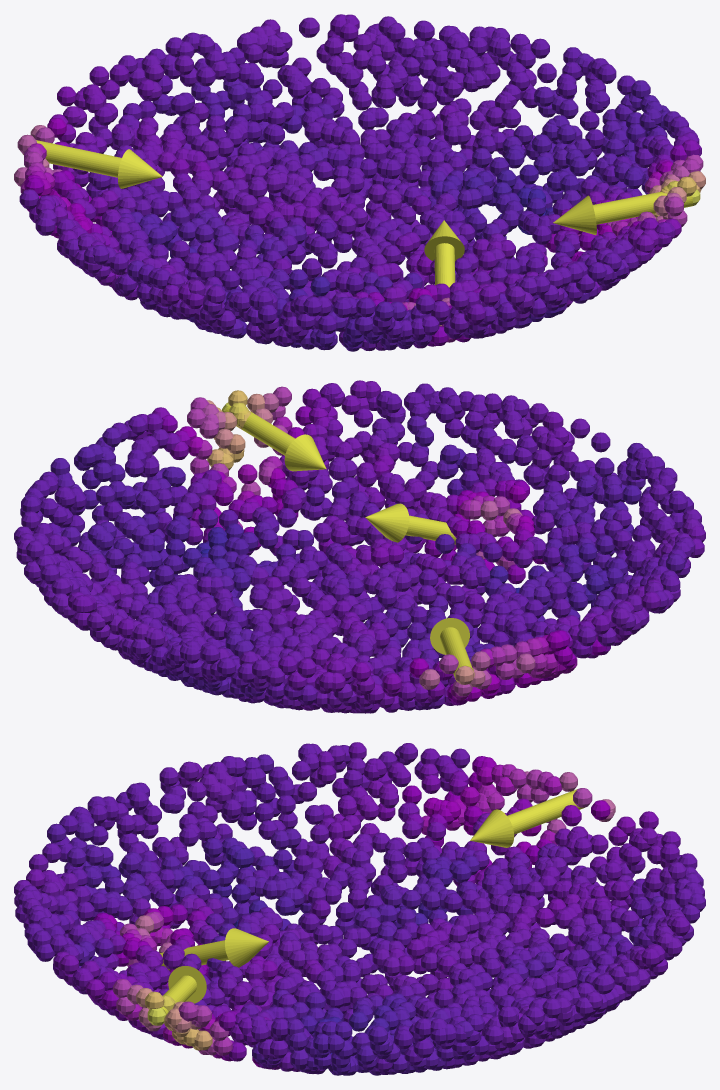
The model's file is pred_heatmap_2.glb.
The picture shows the model from 3 angles, top to bottom: view 1: azimuth 30°, elevation 25°; view 2: azimuth 150°, elevation 25°; view 3: azimuth 270°, elevation 25°; orthographic projection.
Parts seen in each view (by area): view 1: world; view 2: world; view 3: world.
Part boxes in pixels (left/top/right/bottom): world: left=14, top=14, right=705, bottom=351; world: left=14, top=380, right=705, bottom=713; world: left=14, top=742, right=705, bottom=1075.
Size of the model in its own units: 2.05 by 0.3631 by 2.05.
